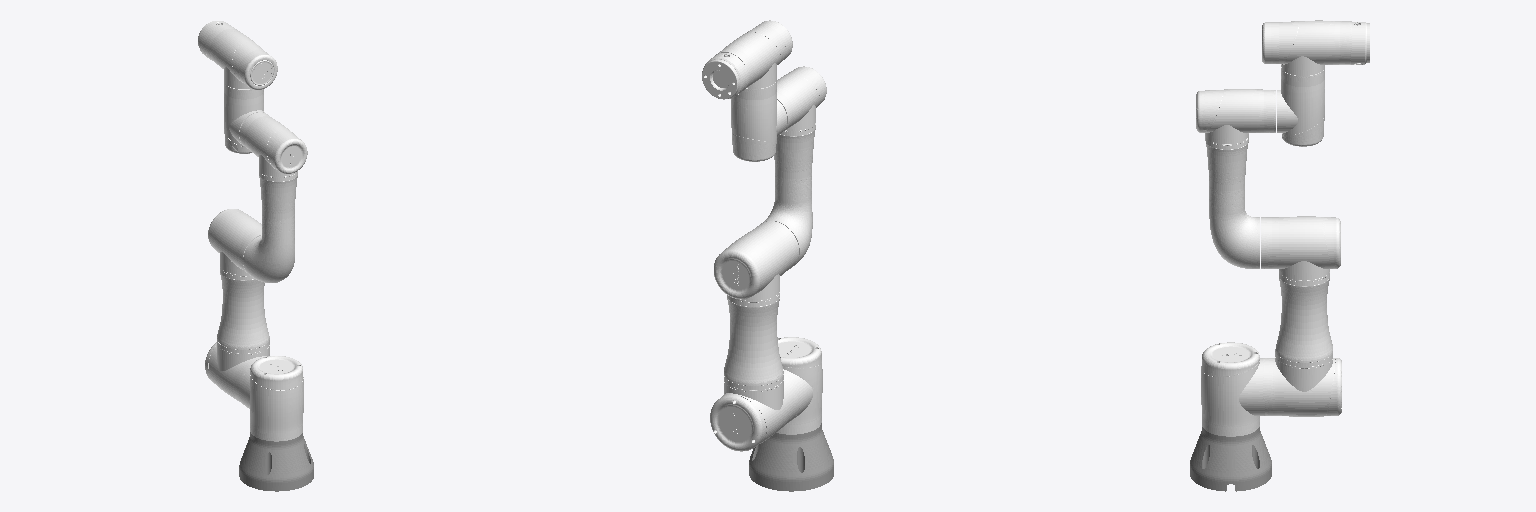
robot.urdf — jaka_zu3:
<?xml version="1.0" ?>
<robot name="jaka_zu3">
  <!-- links: main serial chain -->
  <link name="base_link">
    <visual>
      <origin rpy="0 0 0" xyz="0 0 0"/>
      <geometry>
        <mesh filename="package://jaka_description/meshes/visual/base_link.stl" scale="0.001 0.001 0.001"/>
      </geometry>
      <material name="LightGrey">
        <color rgba="0.7 0.7 0.7 1.0"/>
      </material>
    </visual>
    <collision>
      <origin rpy="0 0 0" xyz="0 0 0"/>
      <geometry>
        <mesh filename="package://jaka_description/meshes/collision/base_link.stl" scale="0.001 0.001 0.001"/>
      </geometry>
    </collision>
  </link>
  <link name="link_1">
    <visual>
      <origin rpy="0 0 0" xyz="0 0 -0.0865"/>
      <geometry>
        <mesh filename="package://jaka_description/meshes/visual/link_1.stl" scale="0.001 0.001 0.001"/>
      </geometry>
      <material name="LightGrey">
        <color rgba="0.999 0.999 0.999 1.0"/>
      </material>
    </visual>
    <collision>
      <origin rpy="0 0 0" xyz="0 0 -0.0865"/>
      <geometry>
        <mesh filename="package://jaka_description/meshes/collision/link_1.stl" scale="0.001 0.001 0.001"/>
      </geometry>
    </collision>
  </link> 
  <link name="link_2">
    <visual>
      <origin rpy="0.0 0.0 0.0" xyz="-0.0505 0.0 -0.15055"/>
      <geometry>
        <mesh filename="package://jaka_description/meshes/visual/link_2.stl" scale="0.001 0.001 0.001"/>
      </geometry>
      <material name="LightGrey">
        <color rgba="0.999 0.999 0.999 1.0"/>
      </material>
    </visual>
    <collision>
      <origin rpy="0.0 0.0 0.0" xyz="-0.0505 0.0 -0.15055"/>
      <geometry>
        <mesh filename="package://jaka_description/meshes/collision/link_2.stl" scale="0.001 0.001 0.001"/>
      </geometry>
    </collision>
  </link>
  <link name="link_3">
    <visual>
      <origin rpy="0 0 0" xyz="0.003 0 -0.39855"/>
      <geometry>
        <mesh filename="package://jaka_description/meshes/visual/link_3.stl" scale="0.001 0.001 0.001"/>
      </geometry>
      <material name="LightGrey">
        <color rgba="0.999 0.999 0.999 1.0"/>
      </material>
    </visual>
    <collision>
      <origin rpy="0 0 0" xyz="0.003 0 -0.39855"/>
      <geometry>
        <mesh filename="package://jaka_description/meshes/collision/link_3.stl" scale="0.001 0.001 0.001"/>
      </geometry>
    </collision>
  </link>
  <link name="link_4">
    <visual>
      <origin rpy="0 0 0" xyz="-0.113 0 -0.62655"/>
      <geometry>
        <mesh filename="package://jaka_description/meshes/visual/link_4.stl" scale="0.001 0.001 0.001"/>
      </geometry>
      <material name="LightGrey">
        <color rgba="0.999 0.999 0.999 1.0"/>
      </material>
    </visual>
    <collision>
      <origin rpy="0 0 0" xyz="-0.113 0 -0.62655"/>
      <geometry>
        <mesh filename="package://jaka_description/meshes/collision/link_4.stl" scale="0.001 0.001 0.001"/>
      </geometry>
    </collision>
  </link>
  <link name="link_5">
    <visual>
      <origin rpy="0 0 0" xyz="-0.113 0 -0.74330"/>
      <geometry>
        <mesh filename="package://jaka_description/meshes/visual/link_5.stl" scale="0.001 0.001 0.001"/>
      </geometry>
      <material name="LightGrey">
        <color rgba="0.999 0.999 0.999 1.0"/>
      </material>
    </visual>
    <collision>
      <origin rpy="0 0 0" xyz="-0.113 0 -0.74330"/>
      <geometry>
        <mesh filename="package://jaka_description/meshes/collision/link_5.stl" scale="0.001 0.001 0.001"/>
      </geometry>
    </collision>
  </link>
  <link name="link_6">
    <visual>
      <origin rpy="0 0 0" xyz="-0.008 0 -0.74405"/>
      <geometry>
        <mesh filename="package://jaka_description/meshes/visual/link_6.stl" scale="0.001 0.001 0.001"/>
      </geometry>
      <material name="LightGrey">
        <color rgba="0.999 0.999 0.999 1.0"/>
      </material>
    </visual>
    <collision>
      <origin rpy="0 0 0" xyz="-0.008 0 -0.74405"/>
      <geometry>
        <mesh filename="package://jaka_description/meshes/collision/link_6.stl" scale="0.001 0.001 0.001"/>
      </geometry>
    </collision>
  </link>
  <!-- joints: main serial chain -->
  <joint name="joint_1" type="revolute">
    <origin rpy="0.0 0.0 1.5708" xyz="0.0 0.0 0.0865"/>
    <parent link="base_link"/>
    <child link="link_1"/>
    <axis xyz="0 0 -1"/>
    <limit effort="0" lower="-4.71239" upper="4.71239" velocity="3.14159"/>
  </joint>
  <joint name="joint_2" type="revolute">
    <origin rpy="0.0 0.0 0.0" xyz="0.0505 0.0 0.0645"/>
    <parent link="link_1"/>
    <child link="link_2"/>
    <axis xyz="-1 0 0"/>
    <limit effort="0" lower="-1.48353" upper="4.62512" velocity="3.14159"/>
  </joint>
  <joint name="joint_3" type="revolute">
    <origin rpy="0.0 0.0 0.0" xyz="-0.055 0 0.248"/>
    <parent link="link_2"/>
    <child link="link_3"/>
    <axis xyz="1 0 0"/>
    <limit effort="0" lower="-3.05433" upper="3.05433" velocity="3.14159"/>
  </joint> 
  <joint name="joint_4" type="revolute">
    <origin rpy="0 0.0 0.0" xyz="0.1175 0.0 0.228"/>
    <parent link="link_3"/>
    <child link="link_4"/>
    <axis xyz="-1 0 0"/>
    <limit effort="0" lower="-1.48353" upper="4.62512" velocity="3.14159"/>
  </joint>
  <joint name="joint_5" type="revolute">
    <origin rpy="0.0 0.0 3.1415926" xyz="0.0 0.0 0.1175"/>
    <parent link="link_4"/>
    <child link="link_5"/>
    <axis xyz="0 0 -1"/>
    <limit effort="0" lower="-4.71239" upper="4.71239" velocity="3.14159"/>
  </joint>
  <joint name="joint_6" type="revolute">
    <origin rpy="-1.5708 0.0 0.0" xyz="-0.105 0.0 0.0"/>
    <parent link="link_5"/>
    <child link="link_6"/>
    <axis xyz="1 0 0"/>
    <limit effort="0" lower="-4.71239" upper="4.71239" velocity="3.14159"/>
  </joint>
  <!-- ROS-Industrial 'base' frame: base_link to HIWIN World Coordinates transform -->
  <link name="base"/>
  <joint name="base_link-base" type="fixed">
    <origin rpy="0 0 0" xyz="0 0 0"/>
    <parent link="base_link"/>
    <child link="base"/>
  </joint>
  <!-- ROS-Industrial 'flange' frame: attachment point for EEF models -->
  <link name="flange"/>
  <joint name="joint_6-flange" type="fixed">
    <origin rpy="0 0 0" xyz="0 0 0"/>
    <parent link="link_6"/>
    <child link="flange"/>
  </joint>
  <!-- ROS-Industrial 'tool0' frame: all-zeros tool frame -->
  <link name="tool0"/>
  <joint name="link_6-tool0" type="fixed">
    <origin rpy="0.0 -1.5707963267948966 0.0" xyz="0 0 0"/>
    <parent link="link_6"/>
    <child link="tool0"/>
  </joint>
</robot>

--- Facts derived from the render (not from the file) ---
The picture shows the robot from 3 angles, left to right: view 1: azimuth 30°, elevation 25°; view 2: azimuth 150°, elevation 25°; view 3: azimuth 270°, elevation 25°; orthographic projection.
Robot: jaka_zu3 — 10 links, 9 joints (6 revolute, 3 fixed); root link base_link; default pose: every joint at zero.
Visible links, largest first — view 1: link_2, link_3, link_1, base_link, link_5, link_4; view 2: link_2, link_3, base_link, link_4, link_1, link_5, link_6; view 3: link_2, link_3, link_1, link_5, base_link, link_4, link_6.
Link boxes in pixels (<box>): link_2: <box>205,209,269,404</box>; link_3: <box>239,112,307,282</box>; link_1: <box>239,356,303,441</box>; base_link: <box>239,432,313,491</box>; link_5: <box>205,25,277,89</box>; link_4: <box>224,83,264,153</box>; link_2: <box>710,221,800,451</box>; link_3: <box>761,66,826,265</box>; base_link: <box>749,423,833,491</box>; link_4: <box>731,81,786,161</box>; link_1: <box>777,337,822,434</box>; link_5: <box>715,20,792,88</box>; link_6: <box>702,53,748,99</box>; link_2: <box>1261,216,1341,416</box>; link_3: <box>1196,89,1275,268</box>; link_1: <box>1201,342,1264,436</box>; link_5: <box>1262,20,1351,75</box>; base_link: <box>1190,427,1271,491</box>; link_4: <box>1277,67,1324,146</box>; link_6: <box>1351,22,1369,64</box>.
Bounding box of the posed robot: 0.129 × 0.2825 × 0.7802 m (x, y, z).
Meshes: 7 distinct files referenced, 7 mesh visuals loaded (7 binary STL).
